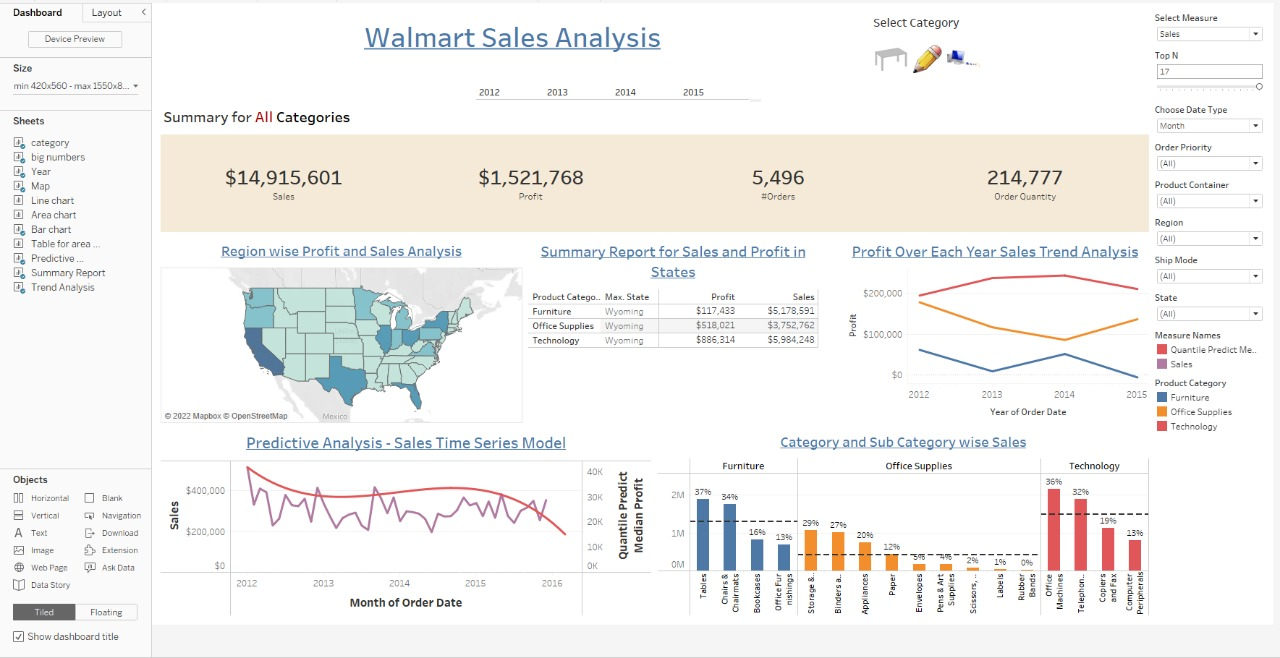

What the dashboard file says about the page in this screenshot:
{"tool":"tableau","page":{"name":"Dashboard","canvas":[1000,1000],"units":"permille","ordinal":0},"visuals":[{"type":"title","box":[5.2,9.3,632.9,88.4]},{"type":"worksheet","title":"category","mark":"Shape","box":[638.1,9.3,253.6,147.7]},{"type":"parameter","param":"[Parameters].[Parameter 1]","box":[891.6,9.3,103.2,60.5]},{"type":"parameter","param":"[Parameters].[Product Category Parameter]","box":[891.6,69.8,103.2,87.2]},{"type":"worksheet","title":"Year","mark":"Automatic","cols":["Order Date"],"box":[289,114,264.5,46.5]},{"type":"worksheet","title":"big numbers","mark":"Automatic","box":[5.2,157,886.5,216.3]},{"type":"parameter","param":"[Parameters].[Parameter 2]","box":[891.6,157,103.2,60.5]},{"type":"filter","title":"Bar chart","param":"[federated.0chbpal1ozi0gb1a8tpb40arvkoo].[none:Order Priority:nk]","box":[891.6,217.4,103.2,60.5]},{"type":"filter","title":"Bar chart","param":"[federated.0chbpal1ozi0gb1a8tpb40arvkoo].[none:Product Container:nk]","box":[891.6,277.9,103.2,60.5]},{"type":"filter","title":"Bar chart","param":"[federated.0chbpal1ozi0gb1a8tpb40arvkoo].[none:Region:nk]","box":[891.6,338.4,103.2,60.5]},{"type":"worksheet","title":"Map","mark":"Multipolygon","box":[5.2,373.2,327.7,307]},{"type":"worksheet","title":"Summary Report","mark":"Text","rows":["Product Category","State"],"box":[332.9,373.2,279.4,307]},{"type":"worksheet","title":"Trend Analysis","mark":"Automatic","rows":["Profit"],"cols":["Order Date"],"box":[612.2,373.2,279.4,307]},{"type":"filter","title":"Bar chart","param":"[federated.0chbpal1ozi0gb1a8tpb40arvkoo].[none:Ship Mode:nk]","box":[891.6,398.8,103.2,60.5]},{"type":"filter","title":"Bar chart","param":"[federated.0chbpal1ozi0gb1a8tpb40arvkoo].[none:State:nk]","box":[891.6,459.3,103.2,60.5]},{"type":"legend","title":"Predictive Analysis","param":"[federated.0chbpal1ozi0gb1a8tpb40arvkoo].[:Measure Names]","box":[891.6,519.7,103.2,76.7]},{"type":"legend","title":"Trend Analysis","param":"[federated.0chbpal1ozi0gb1a8tpb40arvkoo].[none:Product Category:nk]","box":[891.6,596.5,103.2,100]},{"type":"worksheet","title":"Predictive Analysis","mark":"Automatic","rows":["Sales","Calculation_1002613903243444224"],"cols":["Order Date"],"box":[5.2,680.2,443.2,310.5]},{"type":"worksheet","title":"Bar chart","mark":"Bar","rows":["Calculation_105834602925944833"],"cols":["Product Category","Product Sub-Category"],"box":[448.4,680.2,443.2,310.5]}]}

Visuals, with their boxes on the dashboard's canvas, which has no fixed pixel size, in thousandths of its width and height (x1, y1, x2, y2). These are canvas units, not pixel positions in the 1280x658 screenshot, which may show the page scaled, cropped or inside an application window:
title: pyautogui.locateOnScreen(5, 9, 638, 98)
"category" worksheet (Shape marks): pyautogui.locateOnScreen(638, 9, 892, 157)
parameter: pyautogui.locateOnScreen(892, 9, 995, 70)
parameter: pyautogui.locateOnScreen(892, 70, 995, 157)
"Year" worksheet: pyautogui.locateOnScreen(289, 114, 554, 160)
"big numbers" worksheet: pyautogui.locateOnScreen(5, 157, 892, 373)
parameter: pyautogui.locateOnScreen(892, 157, 995, 218)
"Bar chart" filter: pyautogui.locateOnScreen(892, 217, 995, 278)
"Bar chart" filter: pyautogui.locateOnScreen(892, 278, 995, 338)
"Bar chart" filter: pyautogui.locateOnScreen(892, 338, 995, 399)
"Map" worksheet (Multipolygon marks): pyautogui.locateOnScreen(5, 373, 333, 680)
"Summary Report" worksheet (Text marks): pyautogui.locateOnScreen(333, 373, 612, 680)
"Trend Analysis" worksheet: pyautogui.locateOnScreen(612, 373, 892, 680)
"Bar chart" filter: pyautogui.locateOnScreen(892, 399, 995, 459)
"Bar chart" filter: pyautogui.locateOnScreen(892, 459, 995, 520)
"Predictive Analysis" legend: pyautogui.locateOnScreen(892, 520, 995, 596)
"Trend Analysis" legend: pyautogui.locateOnScreen(892, 596, 995, 696)
"Predictive Analysis" worksheet: pyautogui.locateOnScreen(5, 680, 448, 991)
"Bar chart" worksheet (Bar marks): pyautogui.locateOnScreen(448, 680, 892, 991)
